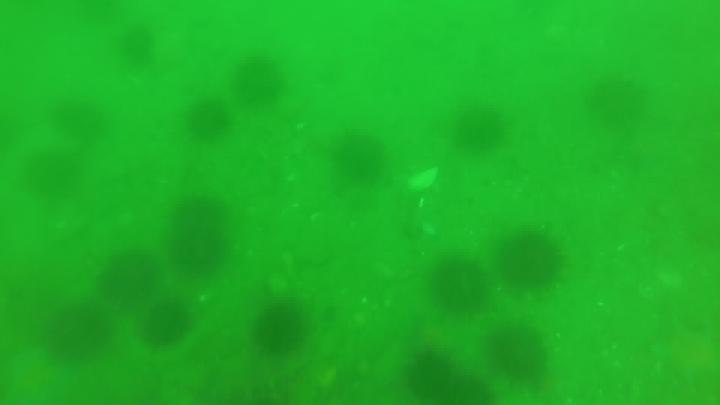echinus: (174, 203, 236, 275), (499, 231, 568, 292), (250, 300, 316, 362), (47, 301, 114, 359), (428, 257, 494, 314), (491, 321, 550, 383), (101, 250, 163, 308), (137, 300, 204, 351), (408, 352, 467, 405), (454, 103, 512, 152), (230, 59, 289, 107), (594, 79, 643, 132), (337, 136, 387, 185), (52, 97, 104, 138), (31, 149, 81, 189), (184, 103, 234, 141), (125, 29, 150, 65)
